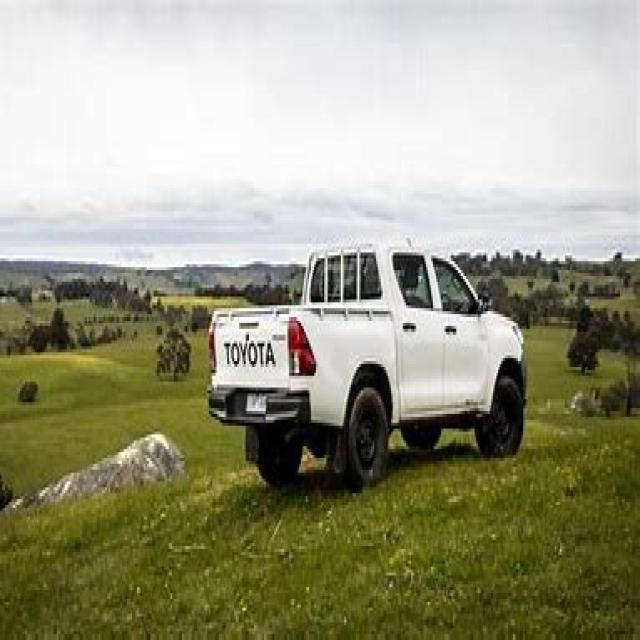light_vehicle: (194, 235, 550, 496)
